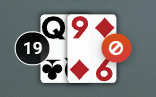9: (66, 14, 92, 43)
q: (40, 15, 68, 42)
